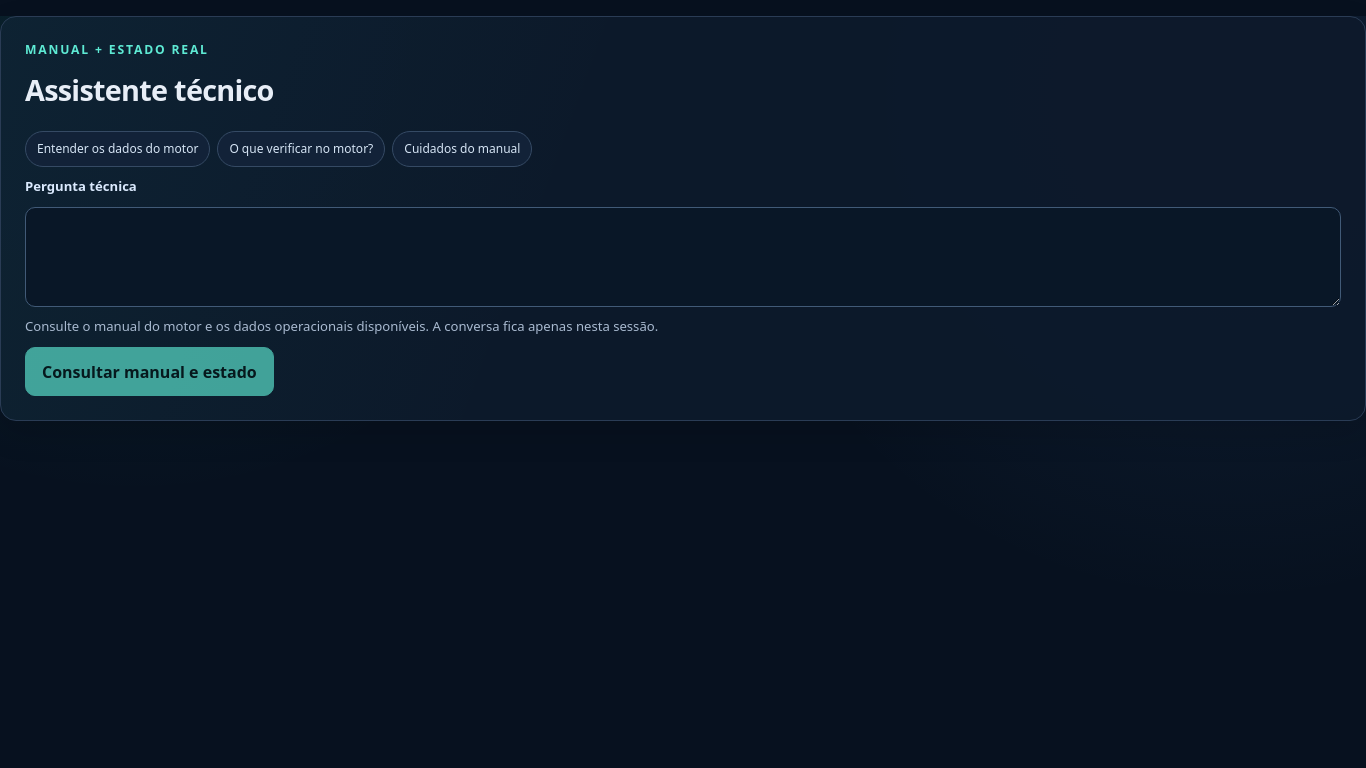
TechnicalAssistantPanel explicit safety states › surfaces the server-owned operational warning: Este é o último estado conhecido e não uma medição recebida agora.
The image size is (1366, 768).
Type "Qual é o contexto operacional?" into the text box labelled "Pergunta técnica" at (683, 257), box x1=25 y1=207 x2=1341 y2=307
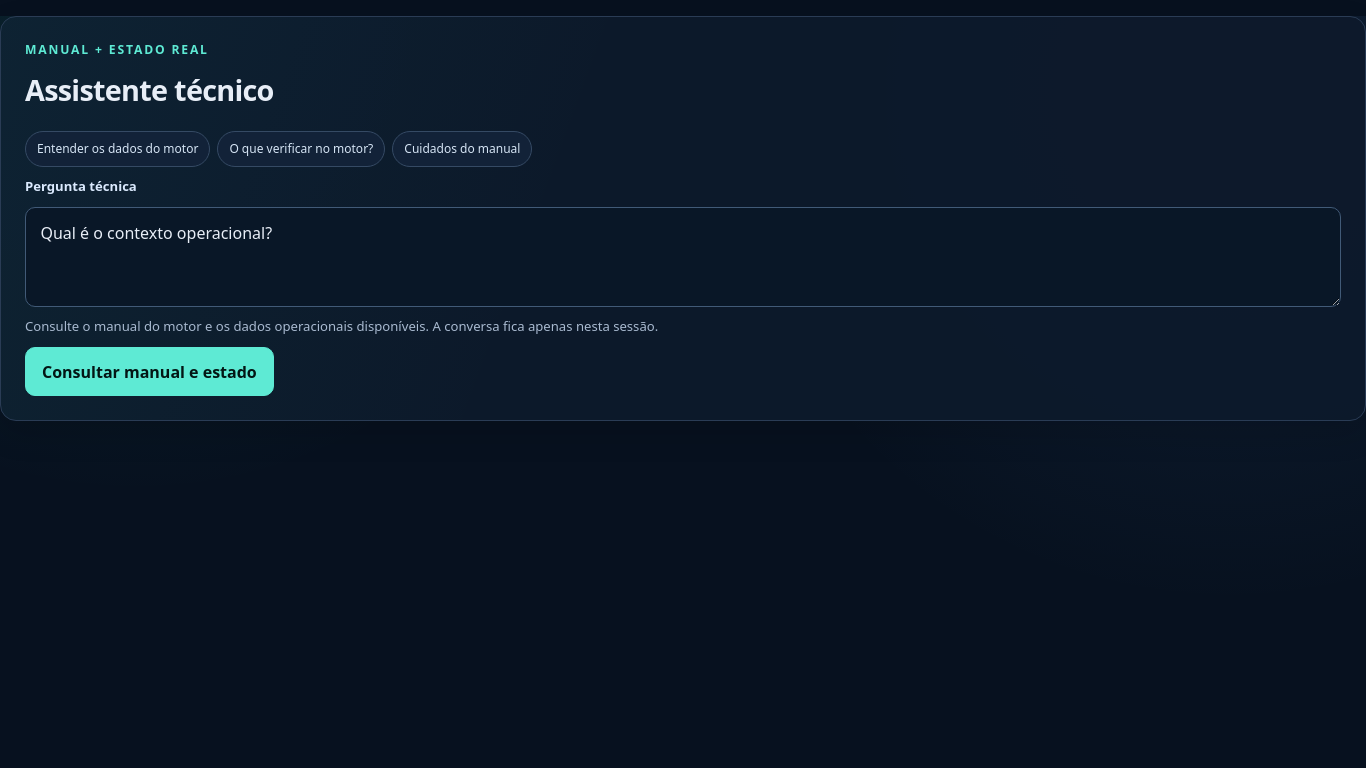
Submit the form named "Consultar o assistente técnico", box x1=25 y1=177 x2=1341 y2=396
(page scrolled)
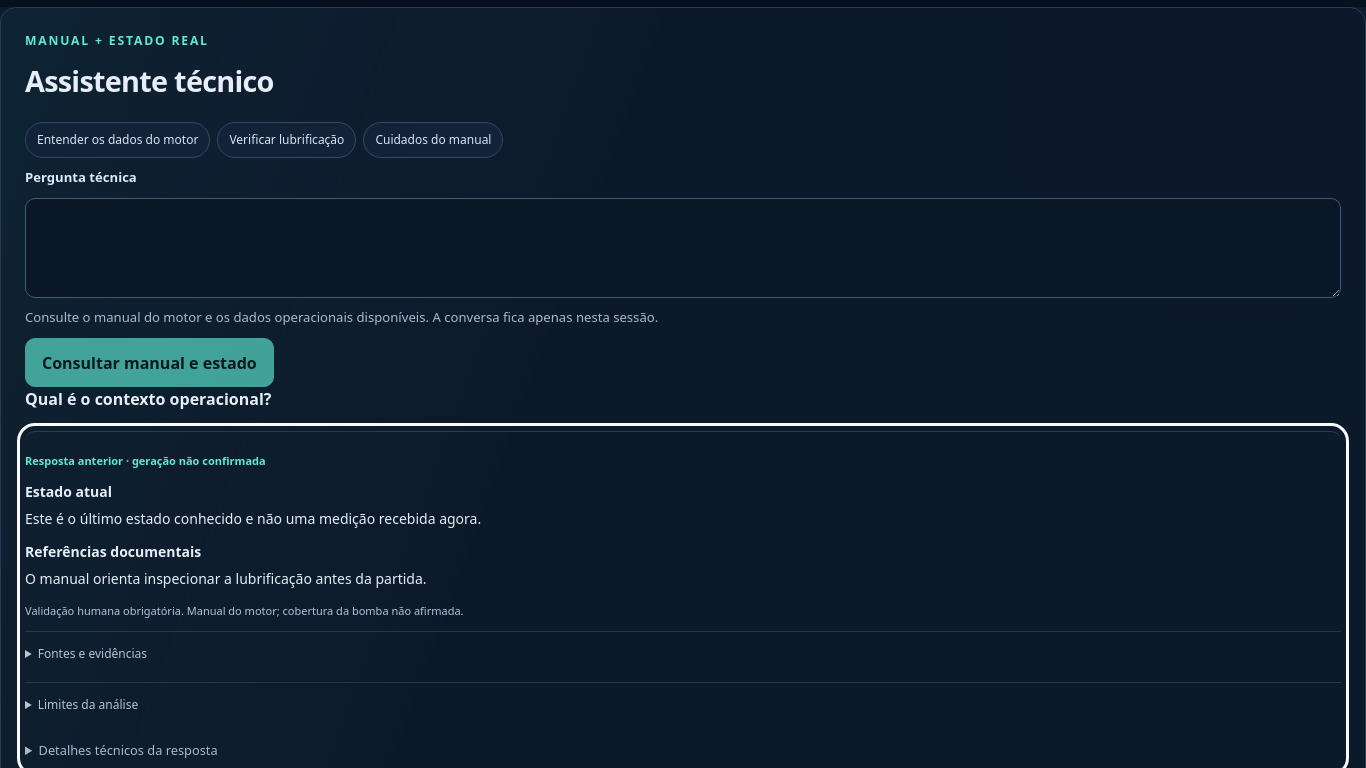
Now the text "último estado conhecido" is shown, box x1=25 y1=509 x2=481 y2=528
